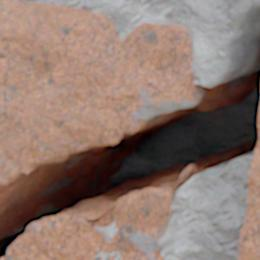brick: (238, 139, 259, 259), (258, 112, 259, 132)
broken_brick: (0, 0, 195, 184), (1, 183, 175, 259)
crack: (0, 1, 259, 259)
